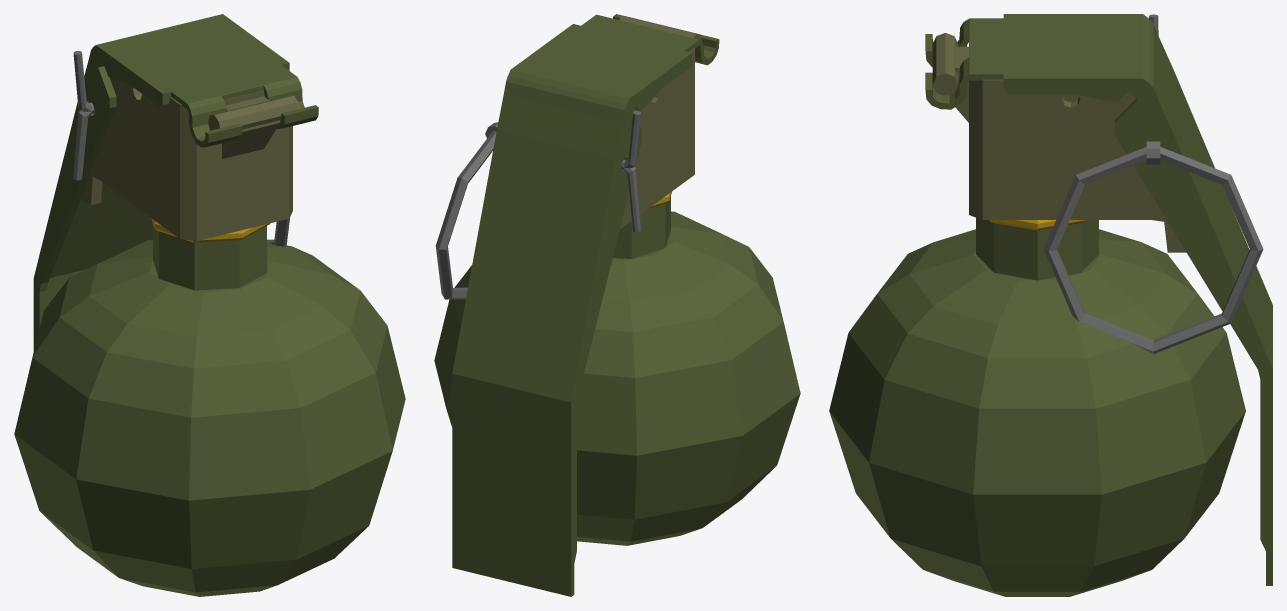
The model's file is m67_grenade_low-poly.glb.
3 renders of one model, left to right at view 1: azimuth 30°, elevation 25°; view 2: azimuth 150°, elevation 25°; view 3: azimuth 270°, elevation 25°, orthographic. The views are drawn at different scales.
Parts seen in each view (by area): view 1: Object_4, Object_3, Object_5, Object_2; view 2: Object_4, Object_3, Object_5; view 3: Object_4, Object_3, Object_5.
Boxes of the visible parts, x1,y1,x2,y2 form: Object_4: (14,14,405,596); Object_3: (81,78,299,241); Object_5: (73,50,289,246); Object_2: (151,218,269,242); Object_4: (434,14,800,596); Object_3: (611,16,701,265); Object_5: (435,111,641,299); Object_4: (829,14,1272,596); Object_3: (932,33,1186,252); Object_5: (1043,14,1263,354).
Bounding box in the file's own units: 0.0711 × 0.1048 × 0.0796.
